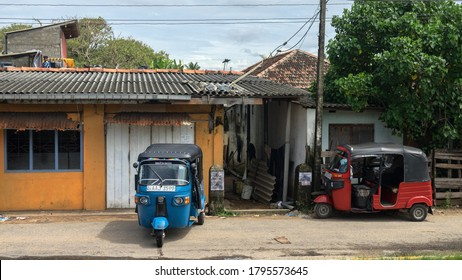threewheel: (310, 142, 435, 222), (132, 144, 205, 248)
